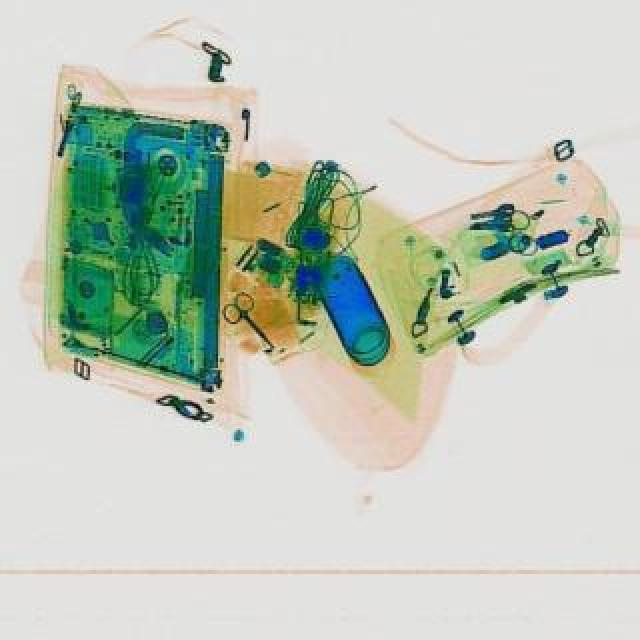pliers: (218, 292, 290, 362)
